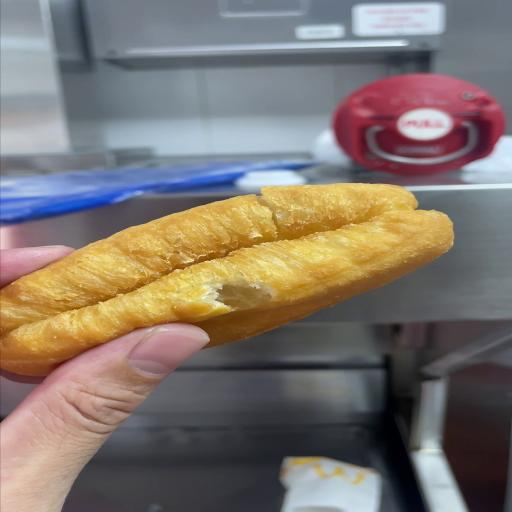brand_golden_defect: (0, 184, 452, 375)
